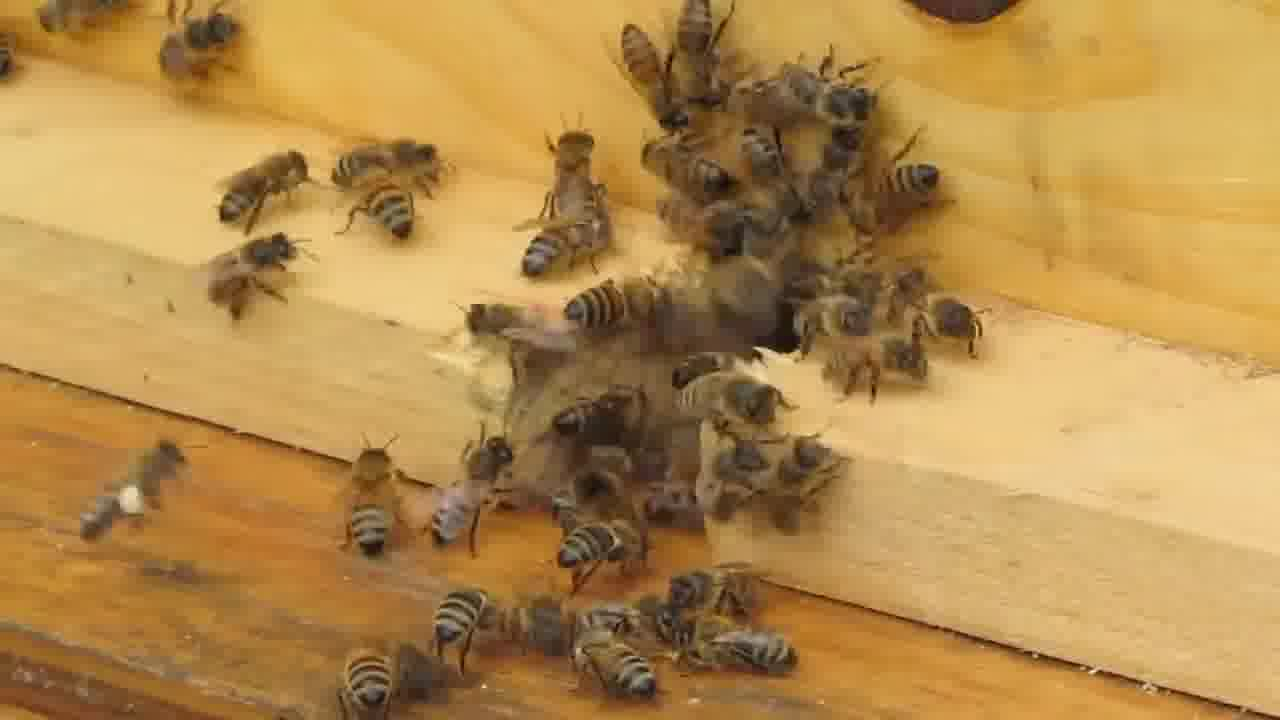pollen: (75, 442, 188, 555)
